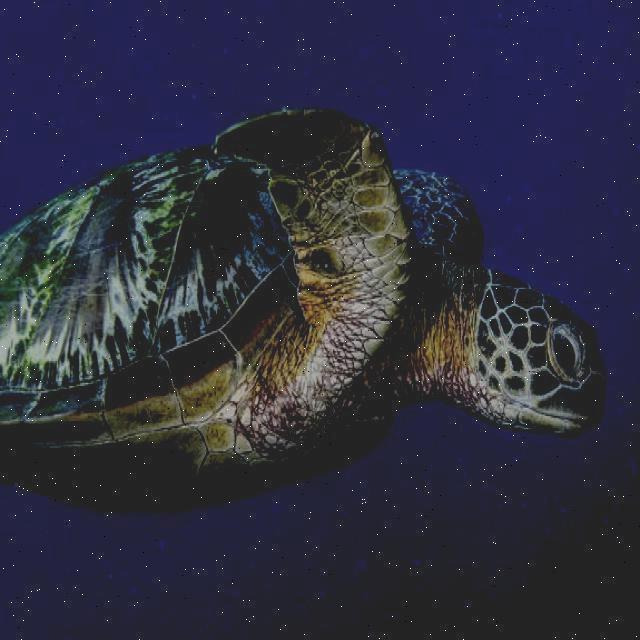tortoise: (0, 100, 605, 512)
